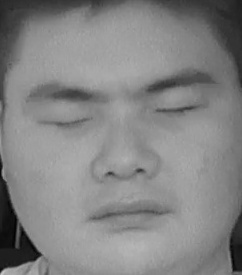blink: (150, 92, 210, 129), (41, 105, 95, 139)
mouth: (88, 186, 168, 235)
